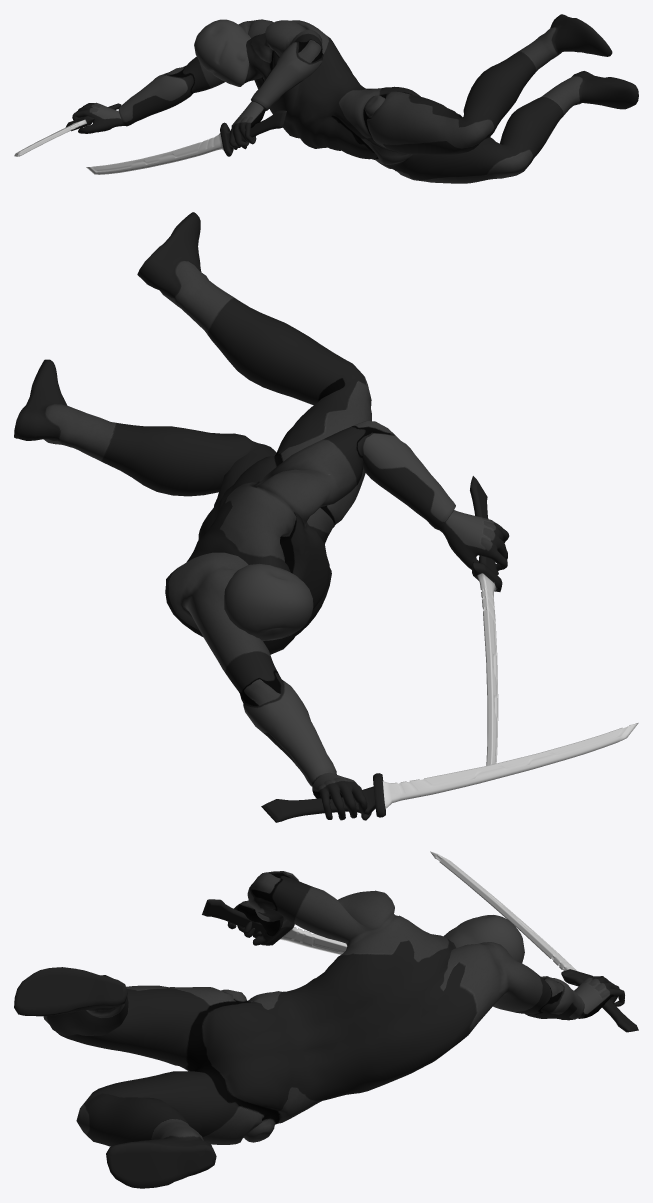
3 renders of one model, top to bottom at view 1: azimuth 30°, elevation 25°; view 2: azimuth 150°, elevation 25°; view 3: azimuth 270°, elevation 25°, orthographic. The views are drawn at different scales.
Visible parts, largest first — view 1: Cyborg_Ninja_Killer, Sword_l, Sword_l001; view 2: Cyborg_Ninja_Killer, Sword_l001, Sword_l; view 3: Cyborg_Ninja_Killer, Sword_l001, Sword_l.
Part boxes in pixels (box(x1,y1,x2,y2)): Cyborg_Ninja_Killer: box(72, 14, 638, 183); Sword_l: box(86, 110, 286, 174); Sword_l001: box(14, 103, 121, 156); Cyborg_Ninja_Killer: box(14, 212, 509, 820); Sword_l001: box(261, 723, 638, 822); Sword_l: box(470, 476, 502, 765); Cyborg_Ninja_Killer: box(14, 871, 624, 1188); Sword_l001: box(430, 851, 638, 1032); Sword_l: box(202, 899, 347, 954).
Bounding box in the file's own units: 206 × 68.9 × 159.
2 materials, 2 textured.
